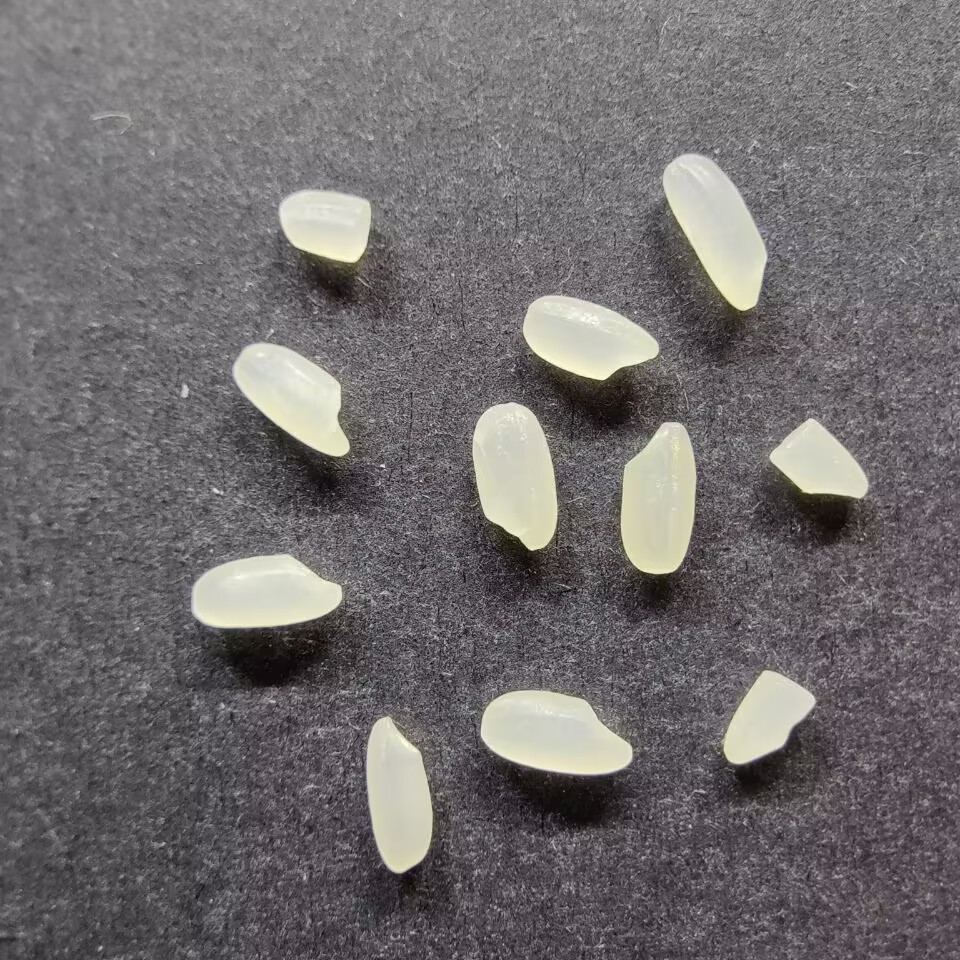broken: (721, 670, 816, 764), (768, 417, 869, 500), (278, 190, 371, 263)
rice: (661, 153, 768, 311), (232, 342, 351, 457), (479, 689, 633, 776), (471, 402, 558, 551), (521, 295, 659, 381), (619, 420, 696, 574), (191, 553, 342, 629), (364, 716, 433, 874)
